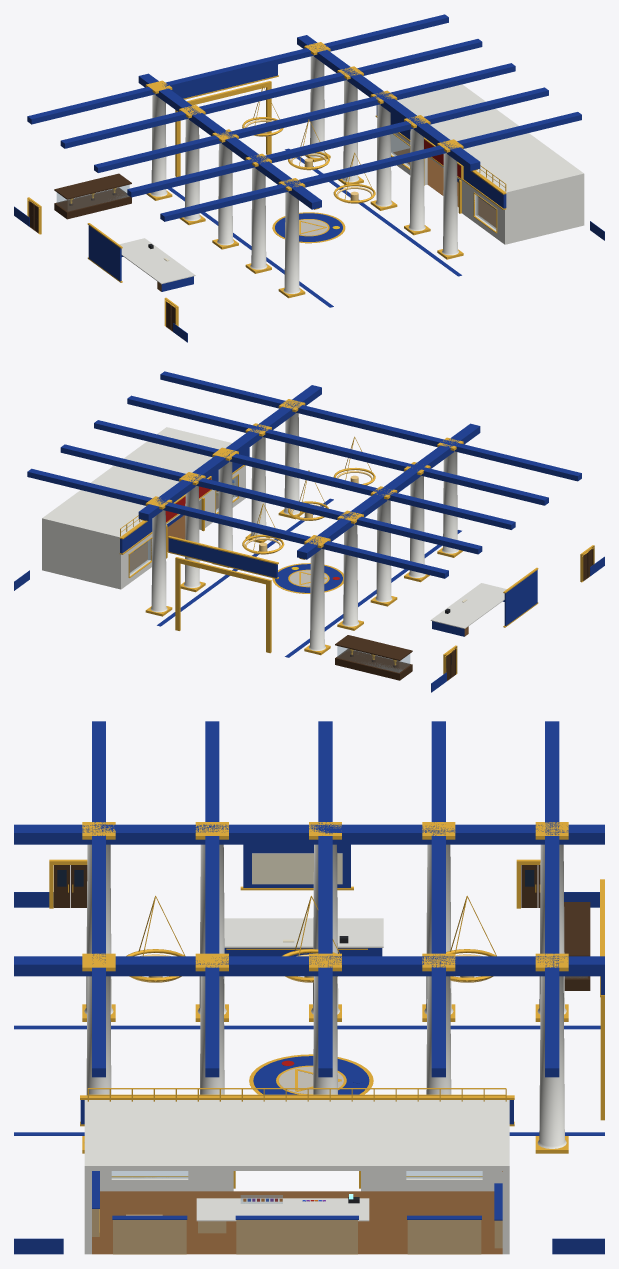
The model's file is SM_Academy_Interior.fbx.
3 views of the same model, one above another, from view 1: azimuth 30°, elevation 25°; view 2: azimuth 150°, elevation 25°; view 3: azimuth 270°, elevation 25° (orthographic). The views are drawn at different scales.
Parts seen in each view (by area): view 1: SM_Academy_Interior; view 2: SM_Academy_Interior; view 3: SM_Academy_Interior.
Boxes of the visible parts, box(x1,y1,x2,y2) form: SM_Academy_Interior: box(14, 14, 604, 342); SM_Academy_Interior: box(14, 371, 604, 692); SM_Academy_Interior: box(14, 721, 604, 1254).
Size of the model in its own units: 58.06 by 14.5 by 41.73.
